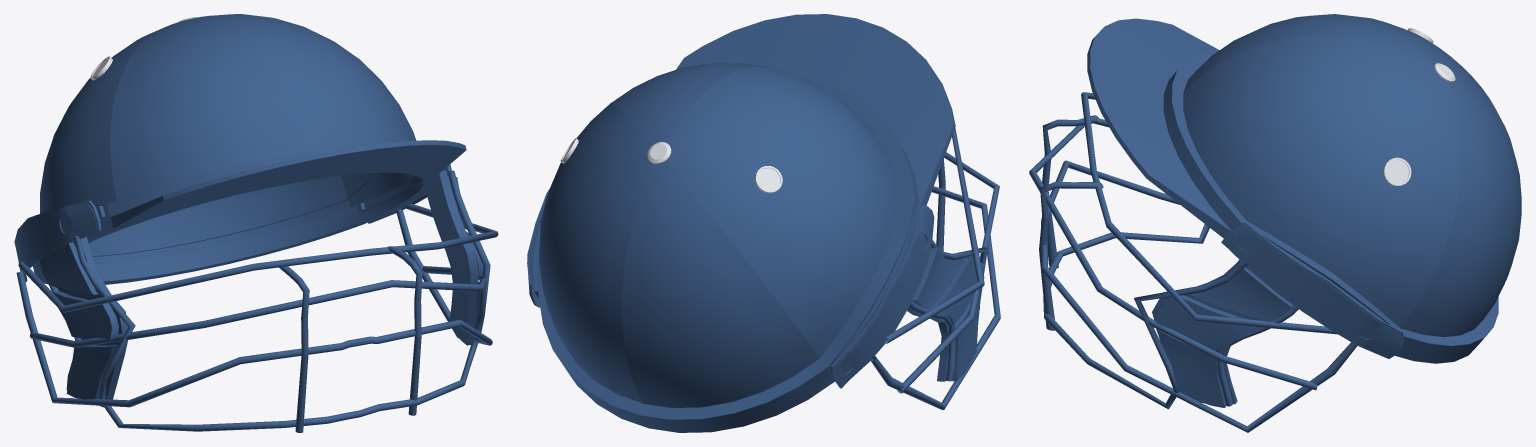
Rendered from helmet.glb.
3 views of the same model, side by side, from view 1: azimuth 30°, elevation 25°; view 2: azimuth 150°, elevation 25°; view 3: azimuth 270°, elevation 25° (orthographic). The views are drawn at different scales.
Visible parts, largest first — view 1: HELMET; view 2: HELMET; view 3: HELMET.
Part boxes in pixels (left/top/right/bottom): HELMET: left=14, top=14, right=498, bottom=432; HELMET: left=527, top=14, right=1000, bottom=432; HELMET: left=1029, top=14, right=1521, bottom=432.
Size of the model in its own units: 0.2168 by 0.1601 by 0.2281.
